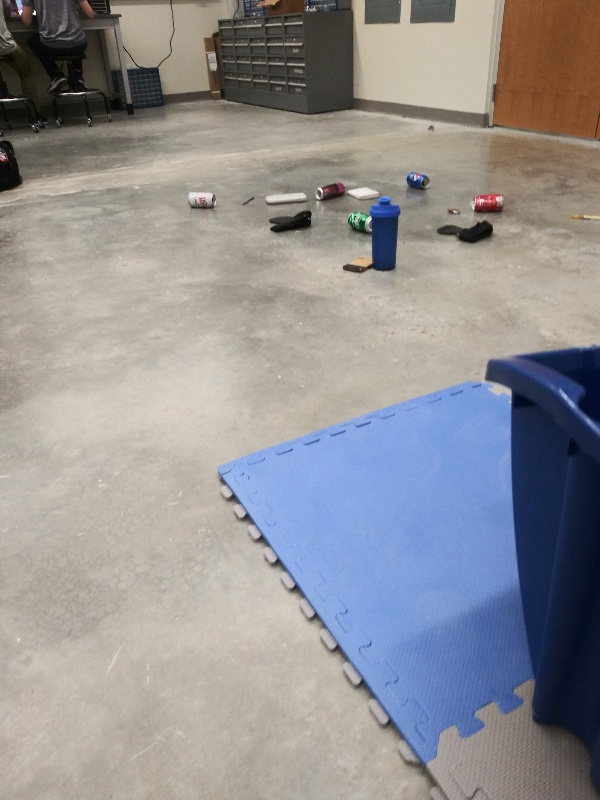can: (467, 192, 505, 213), (314, 182, 347, 202), (346, 210, 373, 234), (185, 190, 219, 209), (405, 171, 431, 192)
